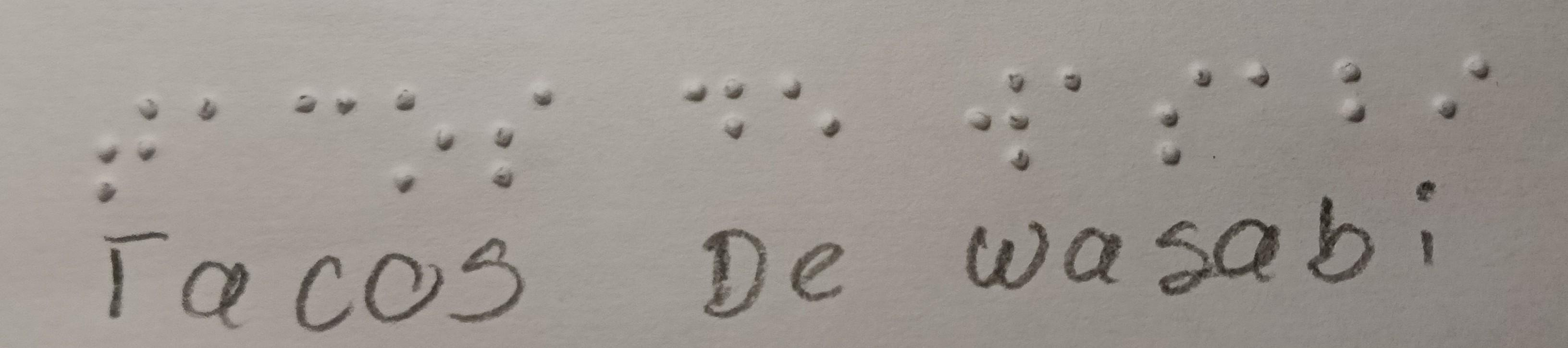a: (175, 81, 249, 220), (1225, 33, 1293, 173), (1041, 45, 1098, 122)
b: (1326, 33, 1387, 170)
c: (272, 84, 370, 217)
d: (671, 61, 766, 178)
e: (772, 55, 851, 170)
i: (1411, 33, 1506, 158)
o: (380, 81, 467, 217)
s: (474, 71, 565, 217), (1137, 42, 1223, 182)
t: (69, 81, 172, 216)
w: (956, 49, 1047, 195)
